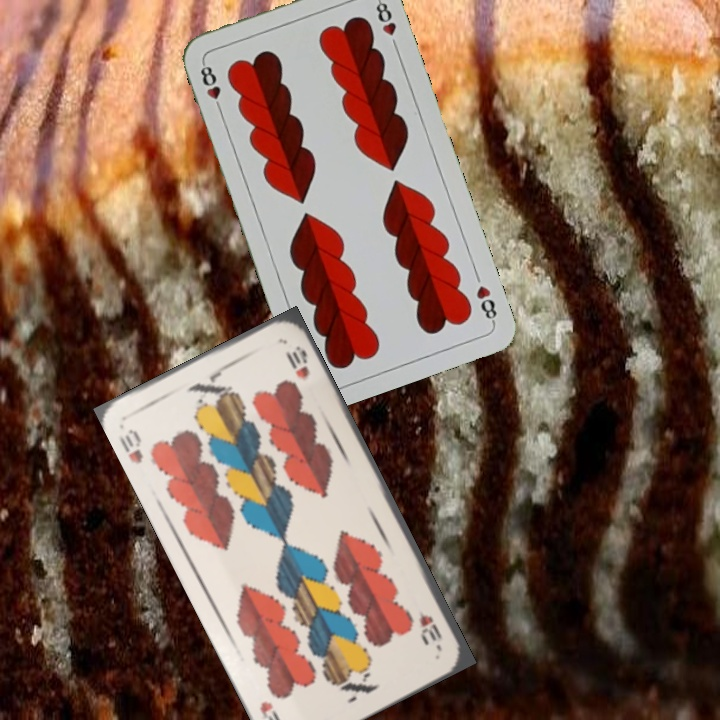H10: (116, 424, 146, 466), (414, 606, 445, 644)
H8: (196, 58, 225, 115), (472, 281, 500, 326)
